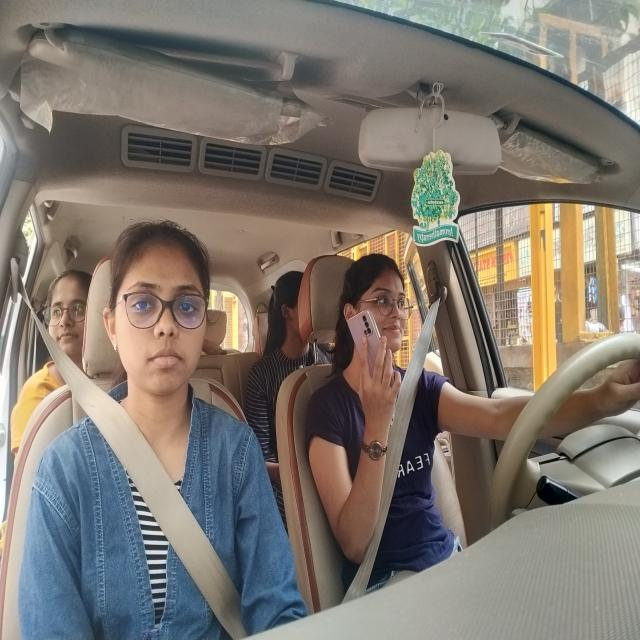mobile: (343, 298, 386, 396)
person: (107, 208, 223, 416), (341, 240, 429, 401), (30, 253, 90, 376), (264, 251, 318, 379)
